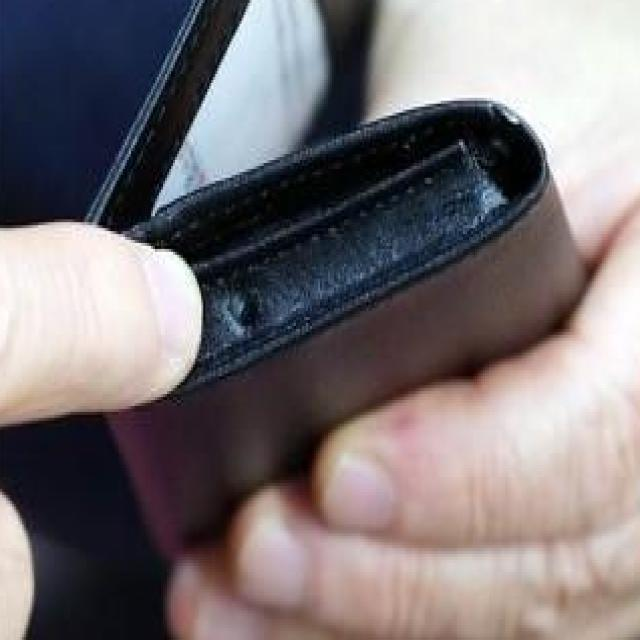hidden camera: (218, 274, 265, 345)
